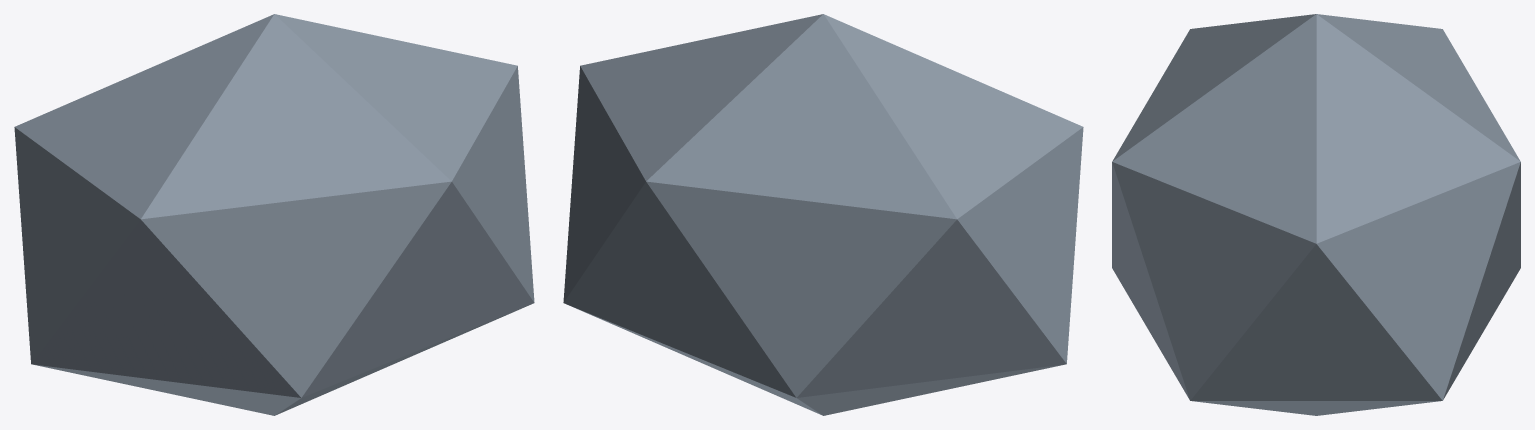
The model's file is SM_ENV_Rock_002_Large.glb.
3 views of the same model, side by side, from view 1: azimuth 30°, elevation 25°; view 2: azimuth 150°, elevation 25°; view 3: azimuth 270°, elevation 25° (orthographic).
Parts seen in each view (by area): view 1: SM_ENV_Rock_002_Large; view 2: SM_ENV_Rock_002_Large; view 3: SM_ENV_Rock_002_Large.
Part boxes in pixels (x1=…): SM_ENV_Rock_002_Large: x1=14, y1=14, x2=534, y2=415; SM_ENV_Rock_002_Large: x1=563, y1=14, x2=1083, y2=415; SM_ENV_Rock_002_Large: x1=1112, y1=14, x2=1520, y2=415.
Bounding box in the file's own units: 1.52 × 1.2 × 1.11.
